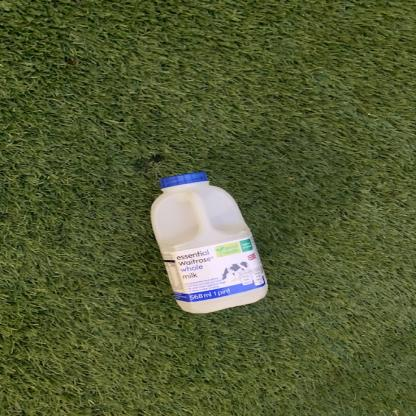trash: (147, 172, 274, 316)
